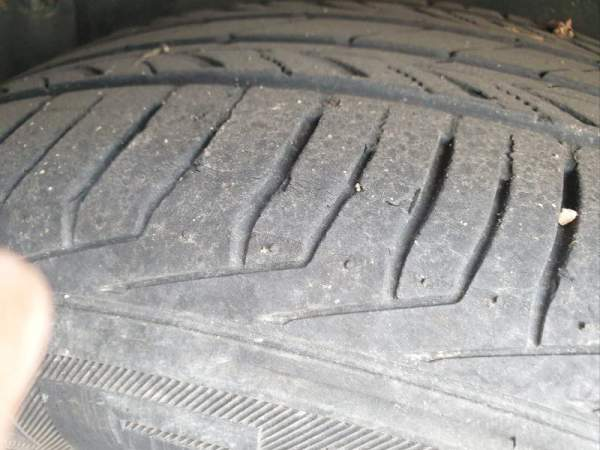middle_condition: (1, 1, 597, 357)
